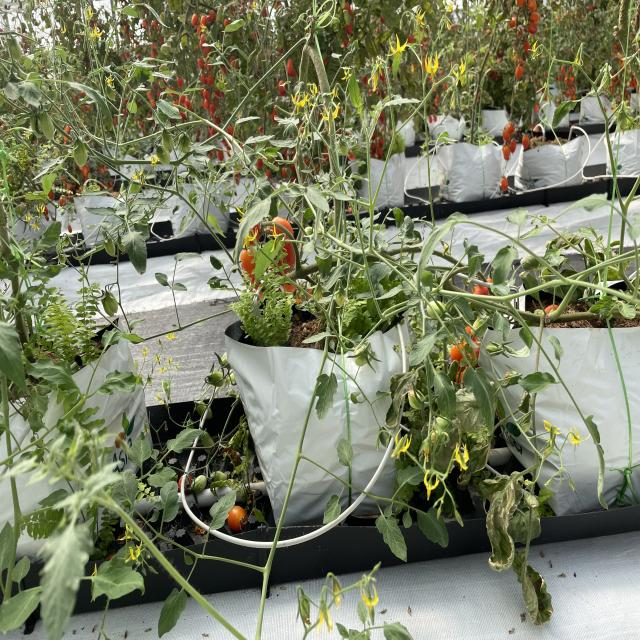Soilbag: (481, 283, 640, 525), (244, 318, 426, 516), (5, 330, 143, 543)
plant: (226, 28, 401, 296), (487, 49, 632, 302), (2, 78, 112, 310)
